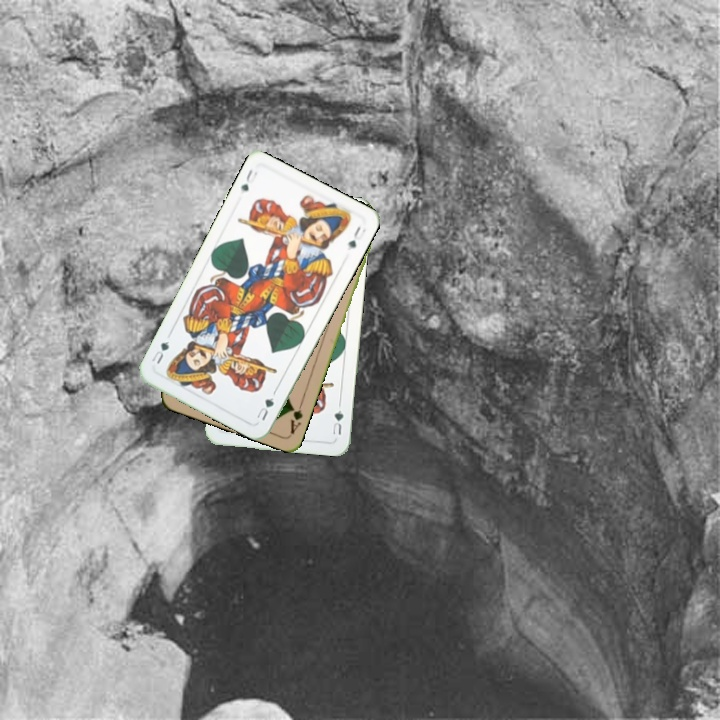GA: (286, 397, 306, 437)
GU: (253, 392, 277, 423), (237, 165, 260, 194), (328, 406, 346, 437)
